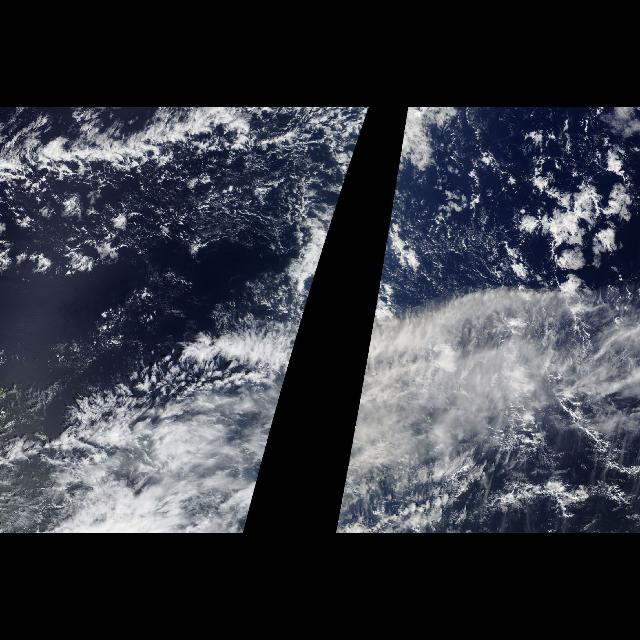Fish: (2, 108, 254, 194)
Gravel: (10, 163, 304, 321), (407, 112, 633, 294)
